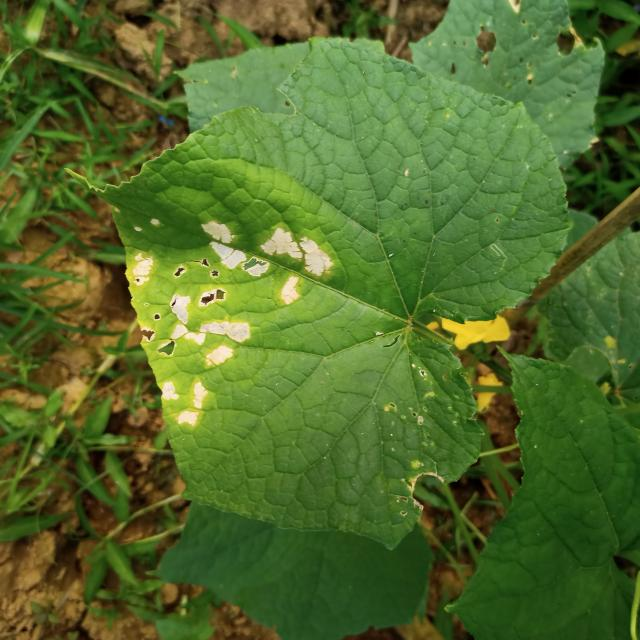disease_cucumber: (121, 195, 336, 432)
